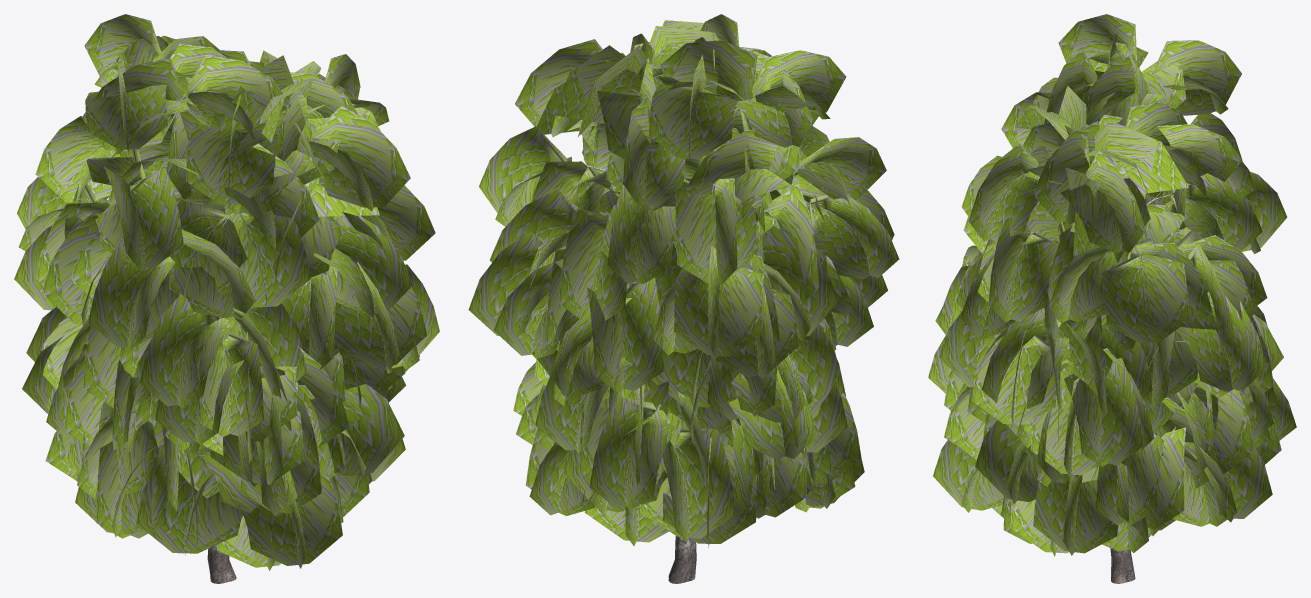
The model's file is Birch.fbx.
3 renders of one model, left to right at view 1: azimuth 30°, elevation 25°; view 2: azimuth 150°, elevation 25°; view 3: azimuth 270°, elevation 25°, orthographic. The views are drawn at different scales.
Parts seen in each view (by area): view 1: Tree_1, Tree_0; view 2: Tree_1, Tree_0; view 3: Tree_1, Tree_0.
Boxes of the visible parts, x1=… form: Tree_1: x1=14, y1=14, x2=439, y2=570; Tree_0: x1=113, y1=88, x2=322, y2=583; Tree_1: x1=468, y1=14, x2=899, y2=547; Tree_0: x1=586, y1=89, x2=816, y2=583; Tree_1: x1=928, y1=14, x2=1296, y2=556; Tree_0: x1=1030, y1=179, x2=1171, y2=583.
Size of the model in its own units: 67.18 by 97.62 by 63.21.
Materials: 2 (2 with a texture image).
